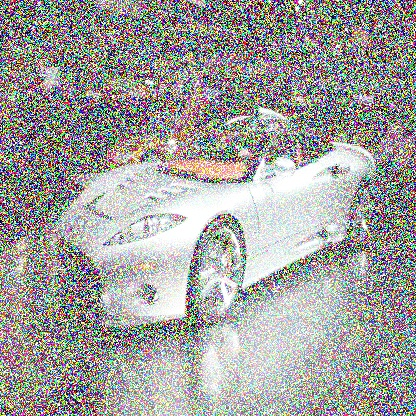Vehicle: (48, 103, 380, 338)
